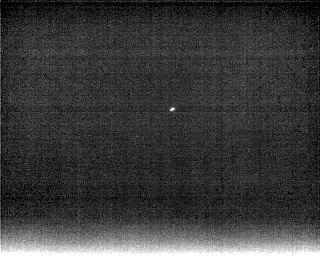BIRD: (168, 104, 177, 114)
